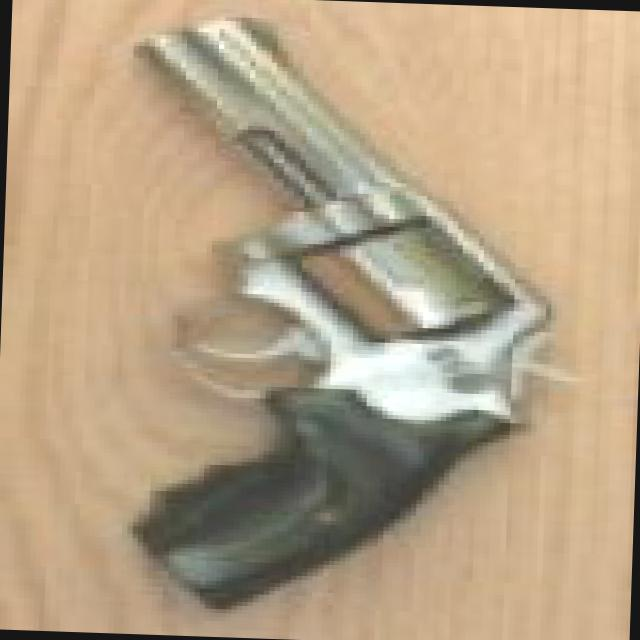handgun: (134, 18, 586, 613)
